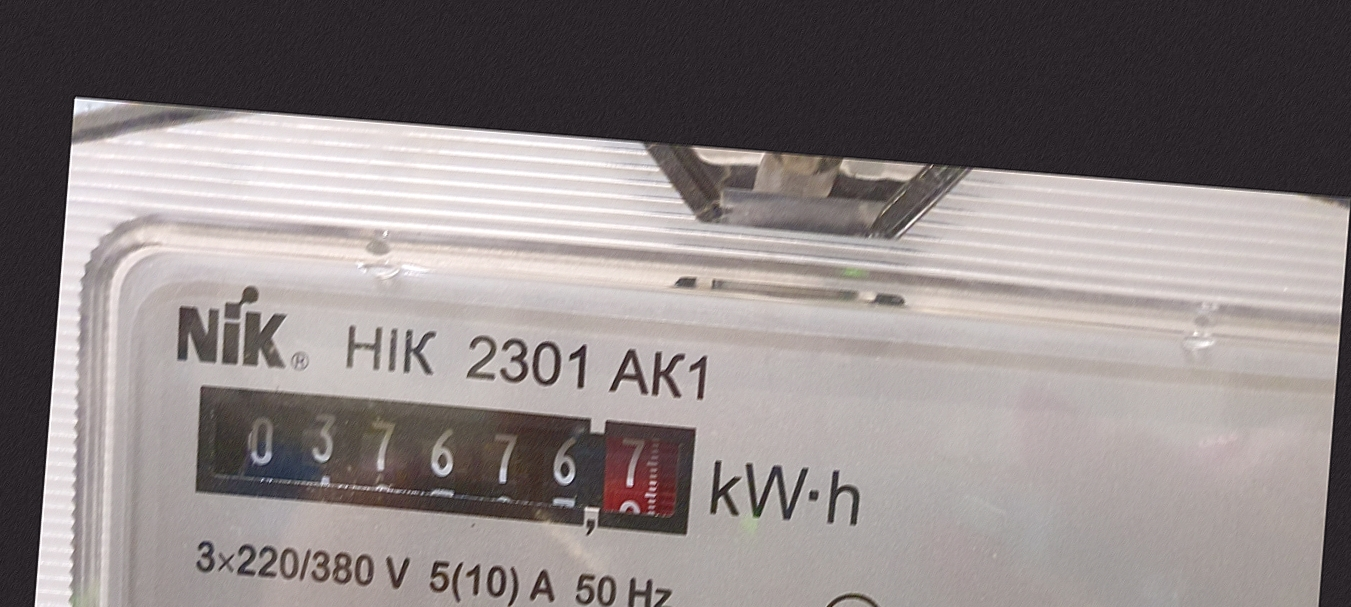0: (243, 410, 281, 468)
3: (306, 407, 338, 465)
6: (425, 422, 461, 478), (548, 431, 582, 488)
7: (486, 428, 521, 488), (364, 415, 399, 474), (616, 432, 648, 490)
screen: (175, 367, 714, 554)
